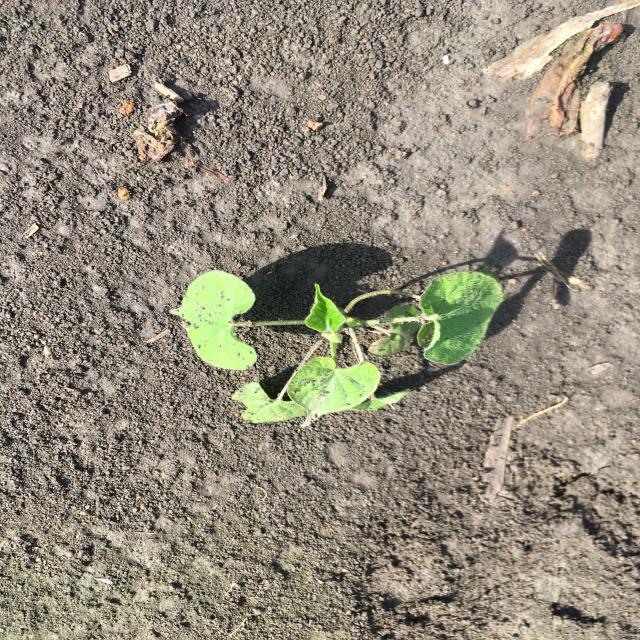MorningGlory: (165, 268, 508, 428)
